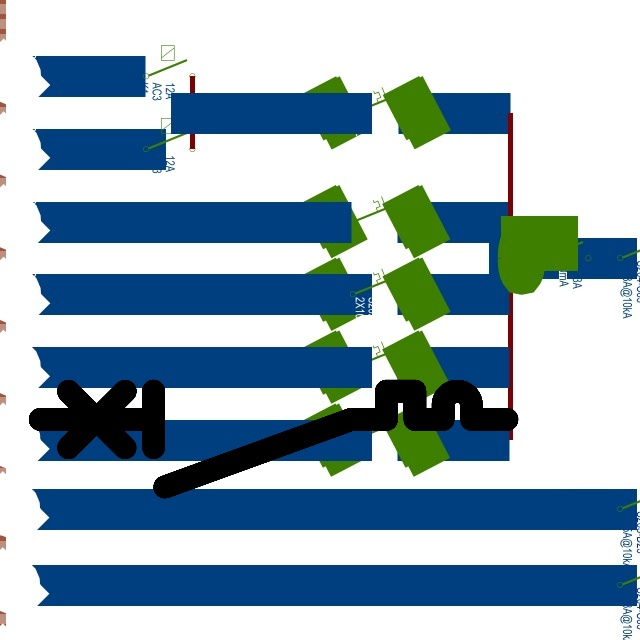interruptor_termomagnetico: (28, 379, 519, 499)
